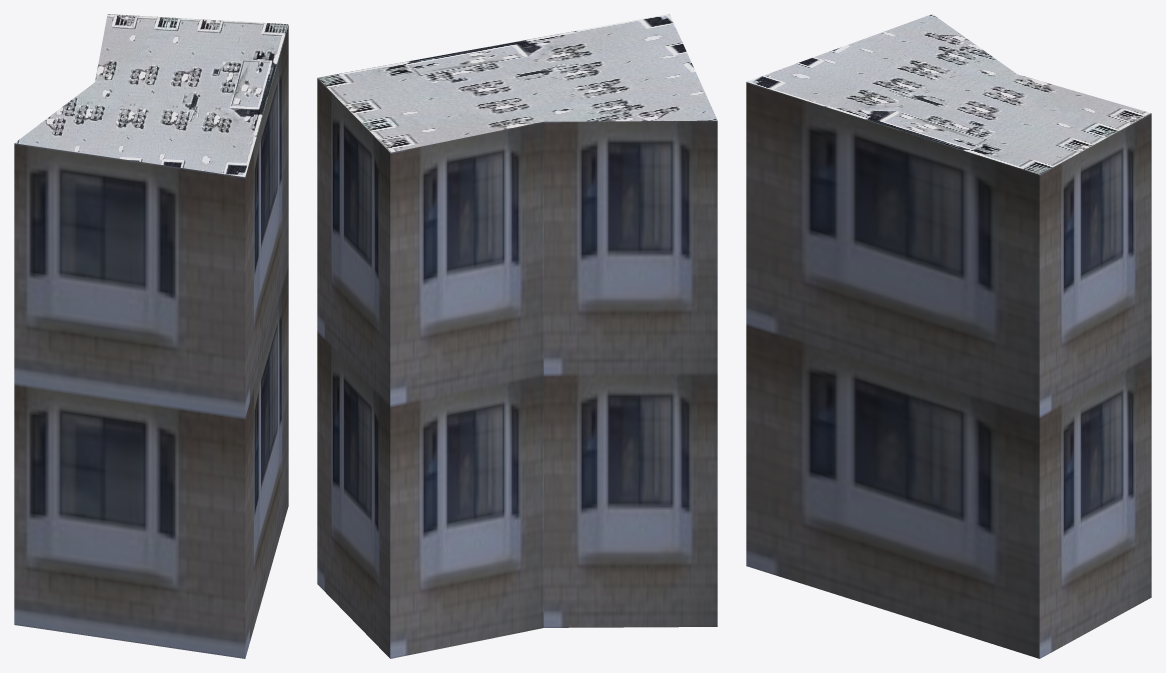
The model's file is ResTex__3777.fbx.
3 renders of one model, left to right at view 1: azimuth 30°, elevation 25°; view 2: azimuth 150°, elevation 25°; view 3: azimuth 270°, elevation 25°, orthographic. The views are drawn at different scales.
Visible parts, largest first — view 1: CityEngineMaterial_3_m, CityEngineMaterial_m; view 2: CityEngineMaterial_3_m, CityEngineMaterial_m; view 3: CityEngineMaterial_3_m, CityEngineMaterial_m.
Boxes of the visible parts, x1,y1,x2,y2 form: CityEngineMaterial_3_m: (14,25,288,658); CityEngineMaterial_m: (14,14,288,177); CityEngineMaterial_3_m: (317,78,717,658); CityEngineMaterial_m: (317,14,717,152); CityEngineMaterial_3_m: (746,82,1151,658); CityEngineMaterial_m: (746,14,1151,174).
Bounding box in the file's own units: 4.27 × 6 × 4.55.
2 materials, 2 textured.
